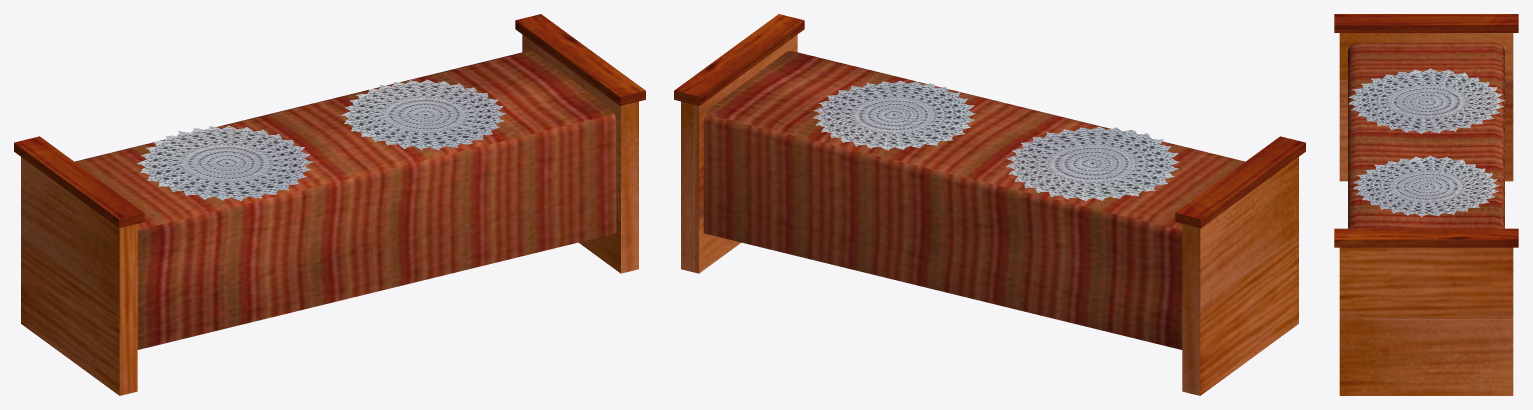
Rendered from Bed_Long.fbx.
3 renders of one model, left to right at view 1: azimuth 30°, elevation 25°; view 2: azimuth 150°, elevation 25°; view 3: azimuth 270°, elevation 25°, orthographic. The views are drawn at different scales.
Parts seen in each view (by area): view 1: Cube.010, Plane.008, Plane.009; view 2: Cube.010, Plane.008, Plane.009; view 3: Cube.010, Plane.008, Plane.009.
Boxes of the visible parts, x1,y1,x2,y2 form: Cube.010: (14, 14, 645, 395); Plane.008: (137, 125, 313, 201); Plane.009: (341, 79, 506, 150); Cube.010: (674, 14, 1305, 395); Plane.008: (1006, 126, 1179, 200); Plane.009: (813, 80, 975, 150); Cube.010: (1334, 14, 1518, 395); Plane.008: (1348, 68, 1504, 133); Plane.009: (1353, 155, 1499, 216).
Bounding box in the file's own units: 411 × 134 × 142.
2 materials, 2 textured.
